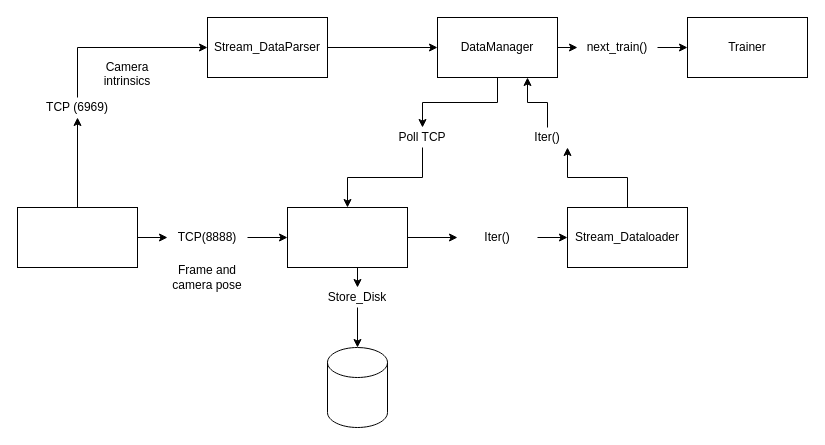
Some shapes in this 825 by 445 pixel diagram are drawn without their labels. The box of each missing label's shape, as (x1, y1, x2, y2) in pixels:
Godot: (16, 206, 138, 268)
Stream_Dataset (IterableDataset): (286, 206, 408, 268)
